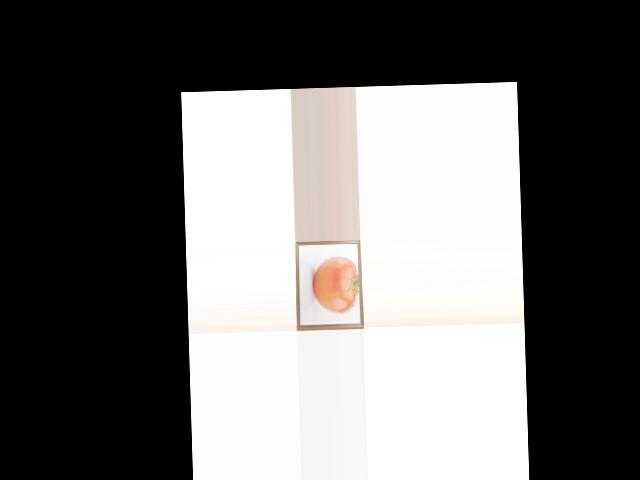tomato: (312, 256, 359, 314)
